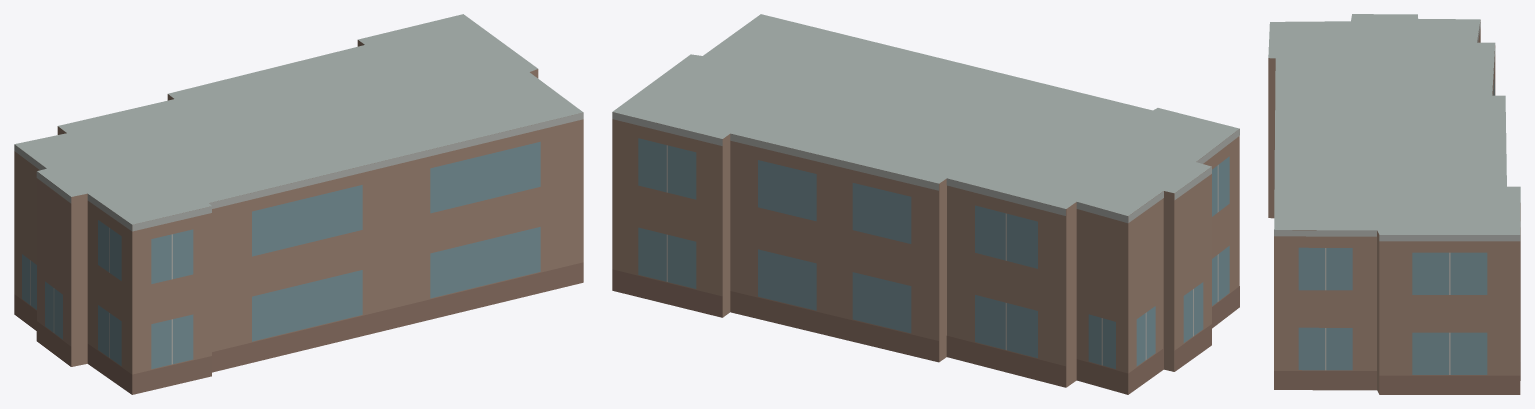
Rendered from survey-upis-33042172.glb.
The picture shows the model from 3 angles, left to right: view 1: azimuth 30°, elevation 25°; view 2: azimuth 150°, elevation 25°; view 3: azimuth 270°, elevation 25°; orthographic projection. The views are drawn at different scales.
Parts seen in each view (by area): view 1: survey-upis-33042172.tmp; view 2: survey-upis-33042172.tmp; view 3: survey-upis-33042172.tmp.
Boxes of the visible parts, x1,y1,x2,y2 form: survey-upis-33042172.tmp: (14,14,583,394); survey-upis-33042172.tmp: (612,14,1239,394); survey-upis-33042172.tmp: (1268,14,1520,394).
Size of the model in its own units: 18.08 by 6.1 by 8.73.
